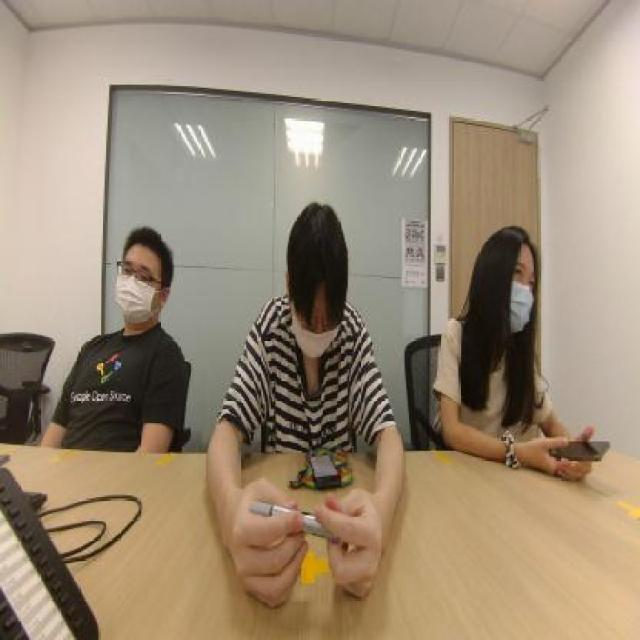Person: (227, 194, 393, 451), (51, 193, 188, 432), (435, 229, 568, 445)
